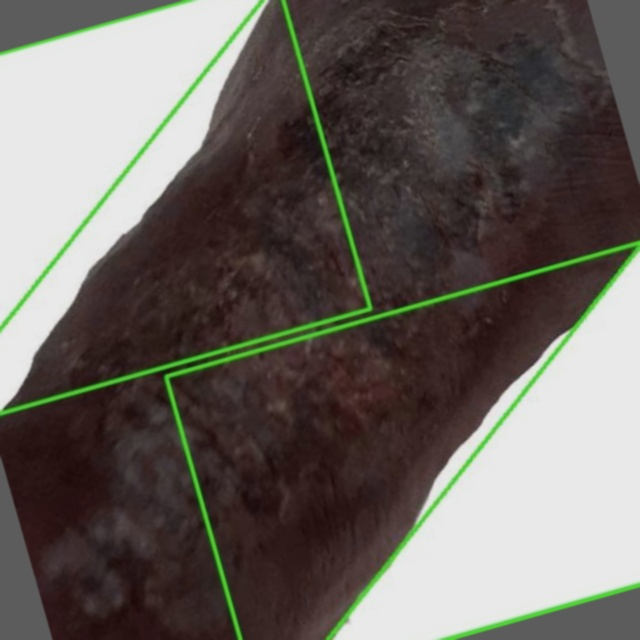Contact Dermatitis: (9, 0, 620, 639), (165, 244, 639, 639), (0, 0, 370, 413)
